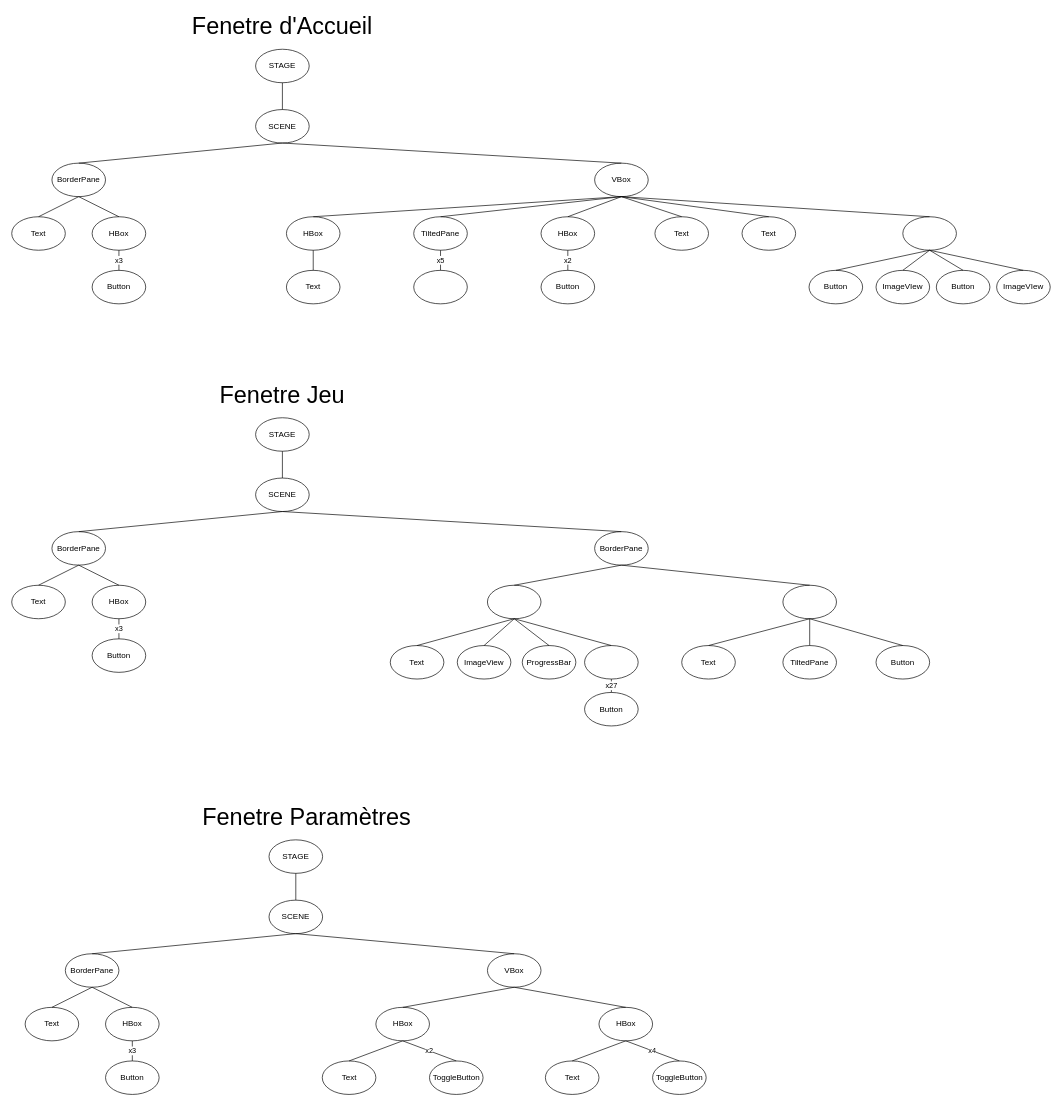
Some shapes in this 1062 by 1106 pixel diagram are drawn without their labels. The box of each missing label's shape, as (x1, y1, x2, y2) in pixels:
GridPane: (902, 216, 956, 250)
RadioButton: (413, 270, 467, 304)
TilePane: (584, 645, 638, 679)
VBox (left): (487, 585, 541, 619)
VBox (right): (782, 585, 836, 619)
